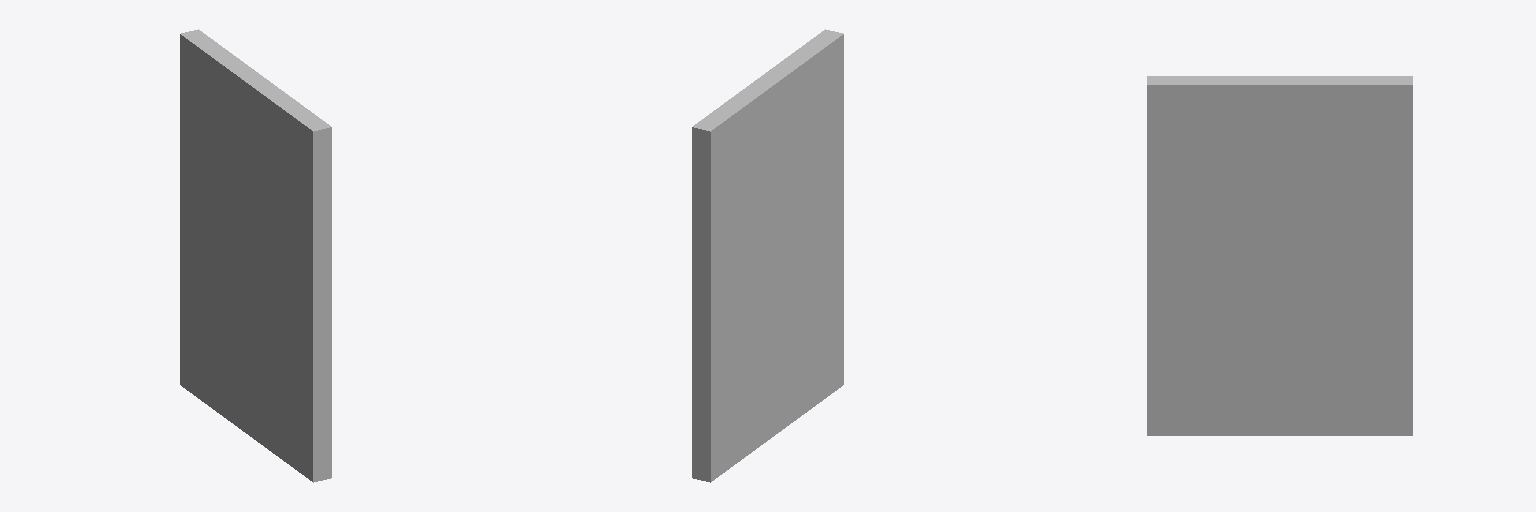
Rendered from Door.obj.
The picture shows the model from 3 angles: view 1: azimuth 30°, elevation 25°; view 2: azimuth 150°, elevation 25°; view 3: azimuth 270°, elevation 25°; orthographic projection.
Visible parts, largest first — view 1: object 1; view 2: object 1; view 3: object 1.
Boxes of the visible parts, <box> form: object 1: <box>180,29,331,482</box>; object 1: <box>692,29,843,482</box>; object 1: <box>1147,76,1412,435</box>.
Size of the model in its own units: 0.5 by 9 by 6.2.